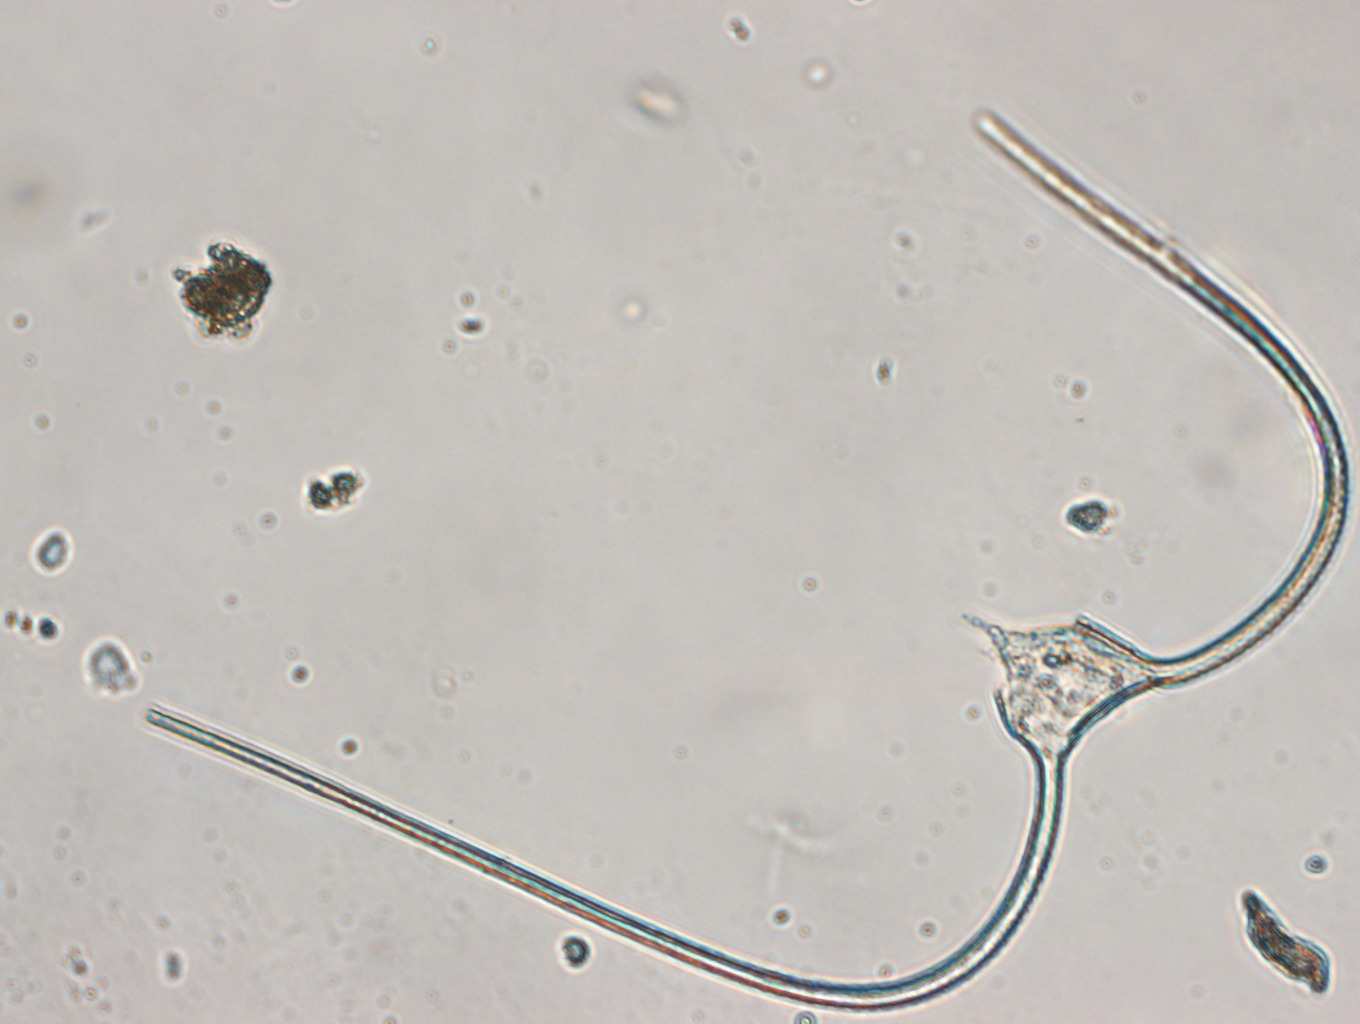ceratium trichoceros: (151, 87, 1360, 1009)
